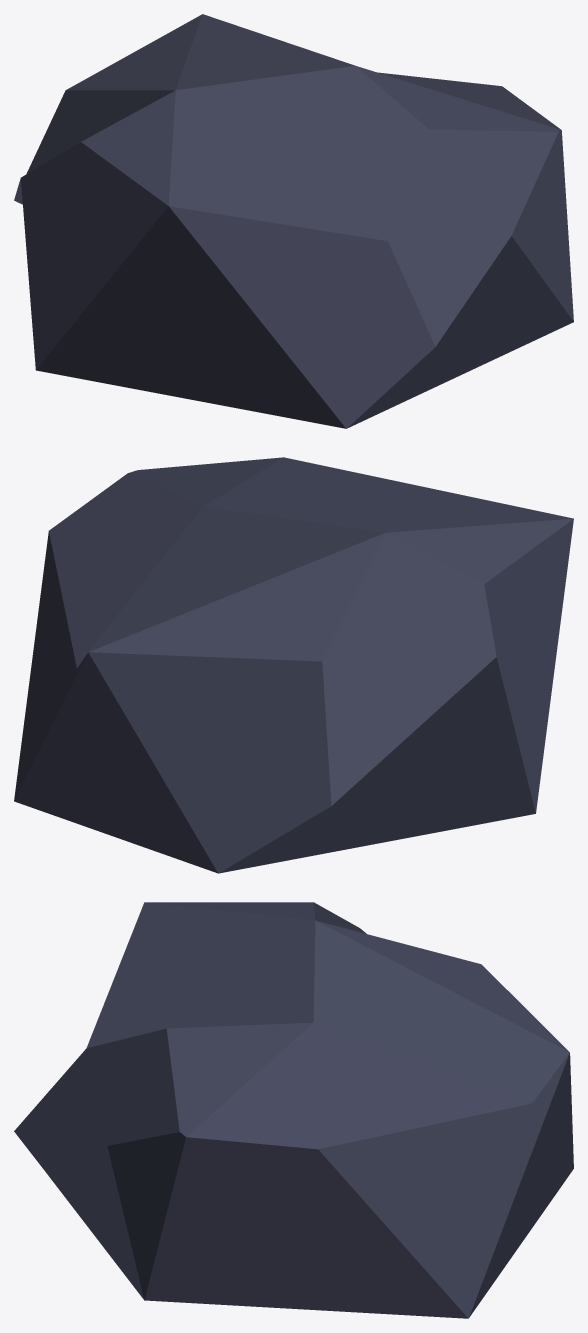
The model's file is rock2.fbx.
The picture shows the model from 3 angles, top to bottom: view 1: azimuth 30°, elevation 25°; view 2: azimuth 150°, elevation 25°; view 3: azimuth 270°, elevation 25°; orthographic projection. The views are drawn at different scales.
Parts seen in each view (by area): view 1: Icosphere.001; view 2: Icosphere.001; view 3: Icosphere.001.
Boxes of the visible parts, x1,y1,x2,y2 form: Icosphere.001: (14, 14, 573, 428); Icosphere.001: (14, 457, 573, 873); Icosphere.001: (14, 902, 573, 1318).
Size of the model in its own units: 168 by 97.57 by 179.
